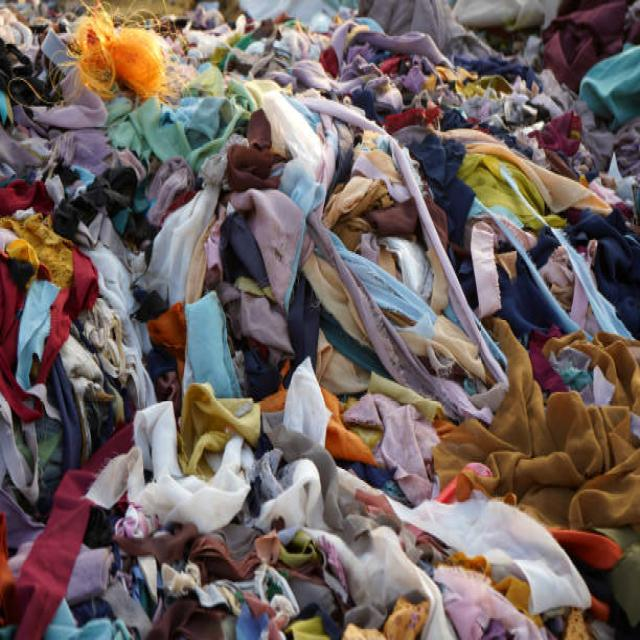trash: (21, 17, 597, 576)
